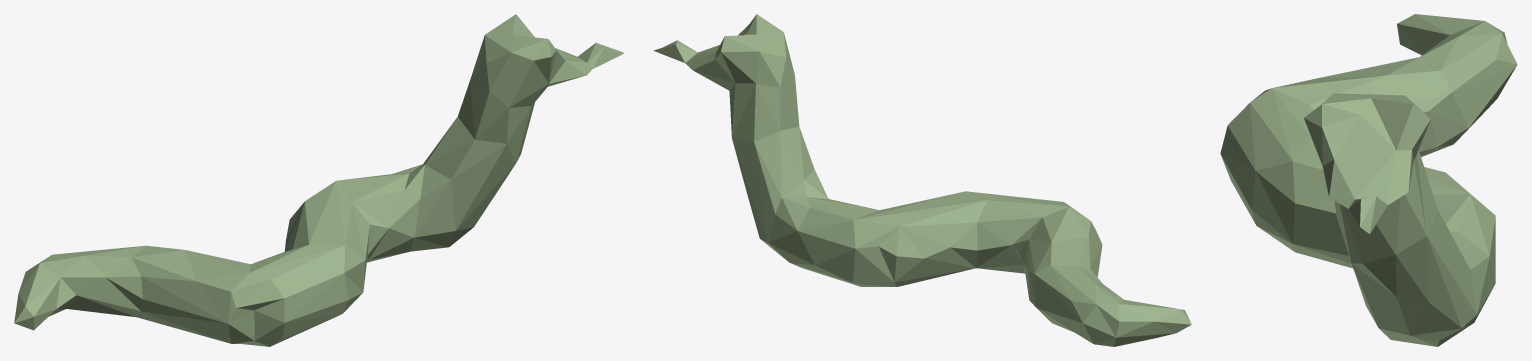
3 views of the same model, side by side, from view 1: azimuth 30°, elevation 25°; view 2: azimuth 150°, elevation 25°; view 3: azimuth 270°, elevation 25° (orthographic). The views are drawn at different scales.
Parts seen in each view (by area): view 1: part0; view 2: part0; view 3: part0.
Part boxes in pixels (x1,y1,x2,y2): part0: (14, 14, 624, 346); part0: (653, 14, 1191, 346); part0: (1220, 14, 1517, 346).
Bounding box in the file's own units: 5.39 × 1.89 × 1.71.
